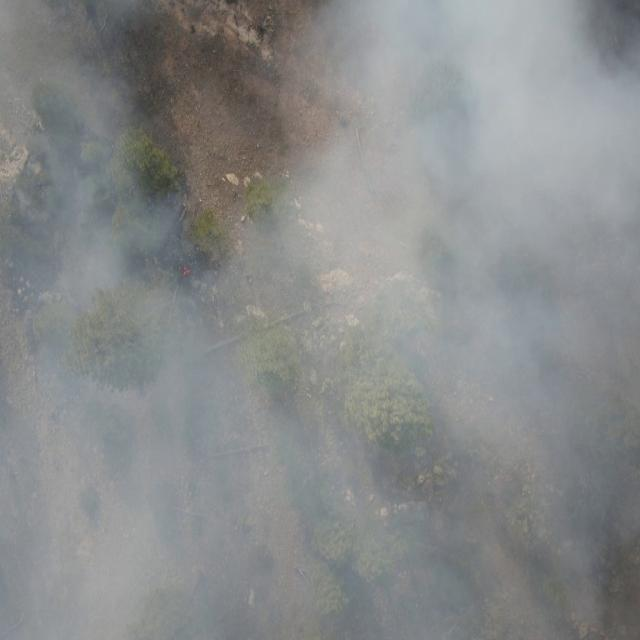fire: (178, 262, 190, 279)
smoke: (0, 0, 640, 640)
